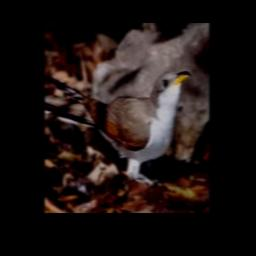Cuckoo: (45, 70, 191, 182)
